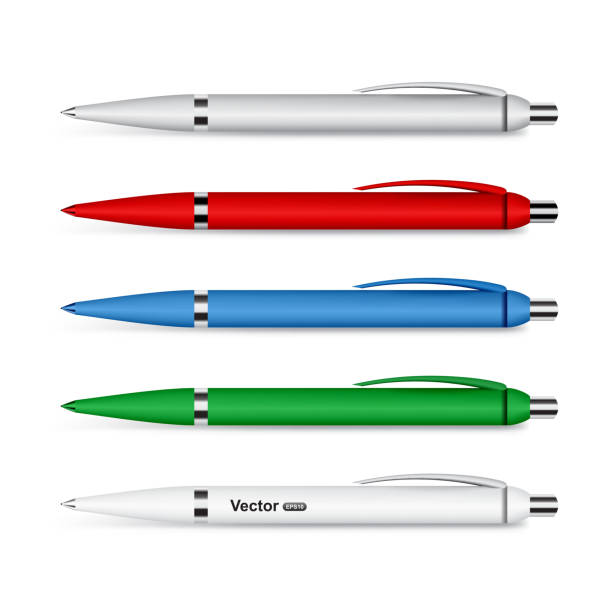pen: (56, 168, 566, 257), (49, 467, 575, 545), (50, 75, 575, 153), (53, 268, 572, 346), (52, 365, 569, 443)
